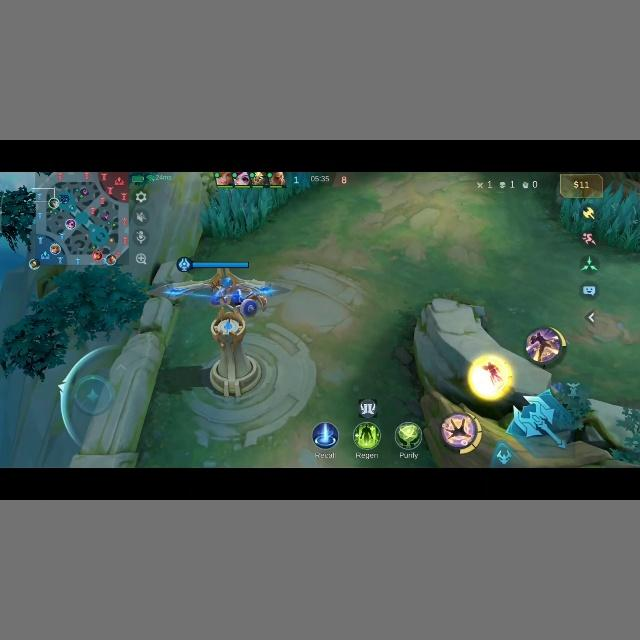hp_self: (173, 259, 256, 271)
turret_ally: (202, 279, 257, 379)
